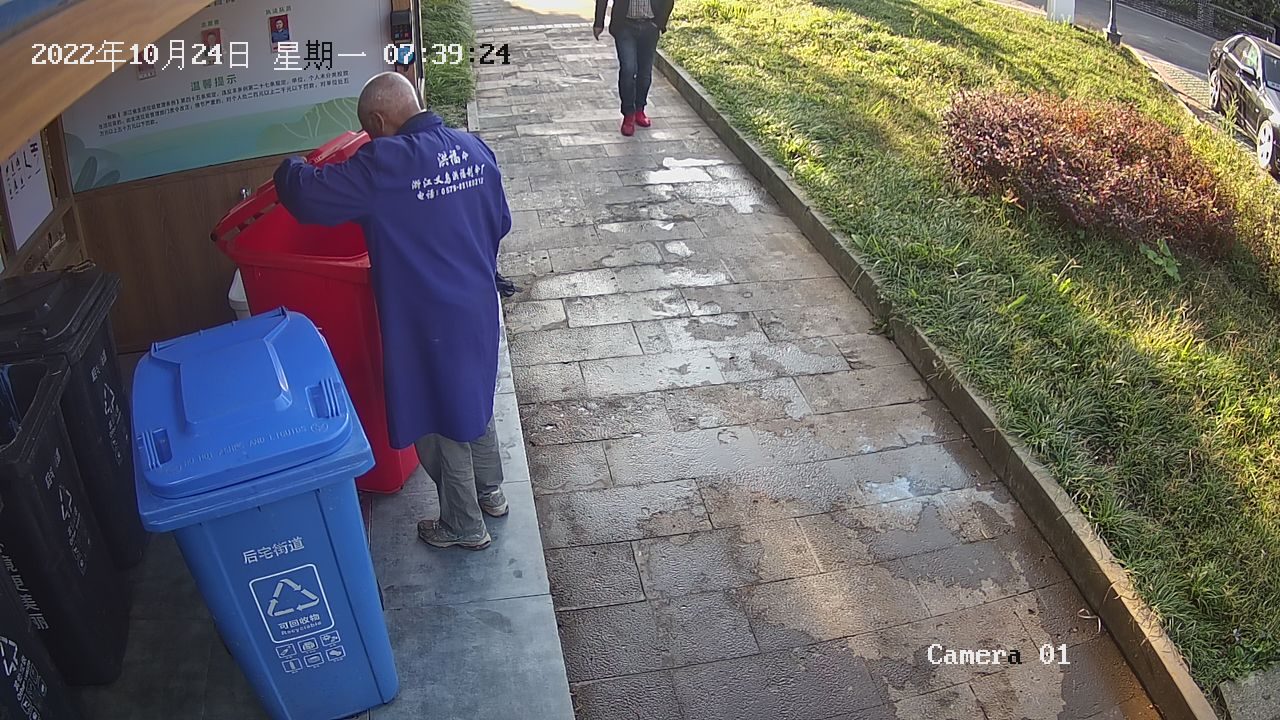worker: (267, 67, 518, 559)
